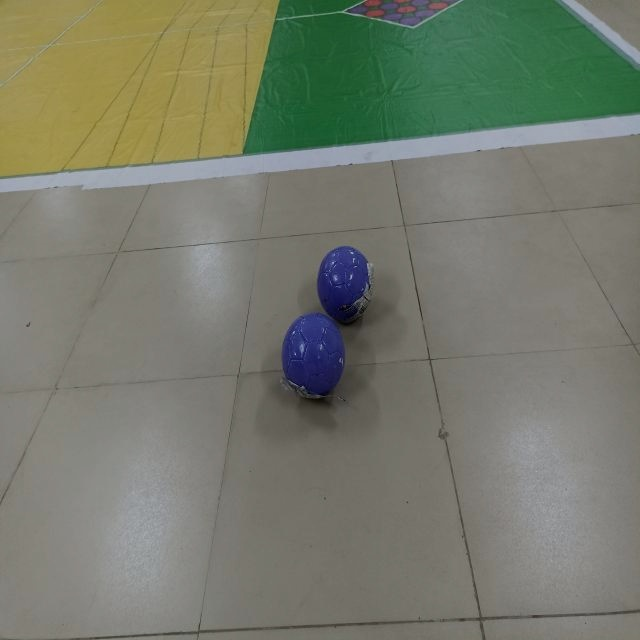purple_ball: (315, 242, 374, 326), (288, 314, 338, 404)
